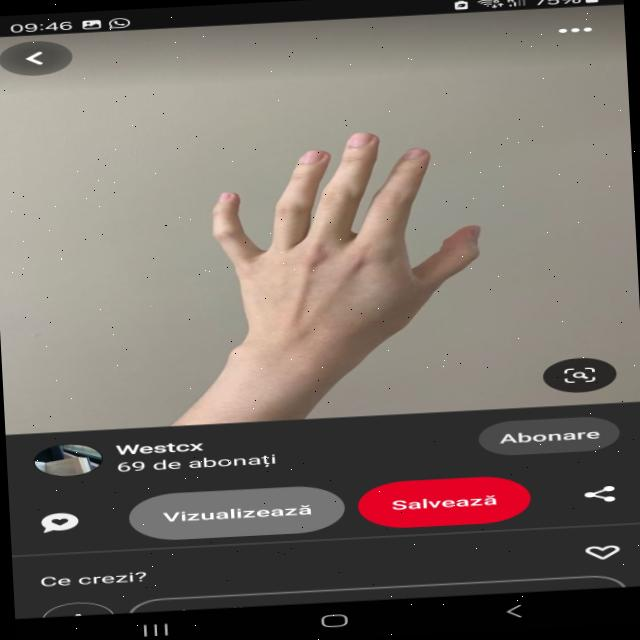hands: (126, 65, 532, 392)
